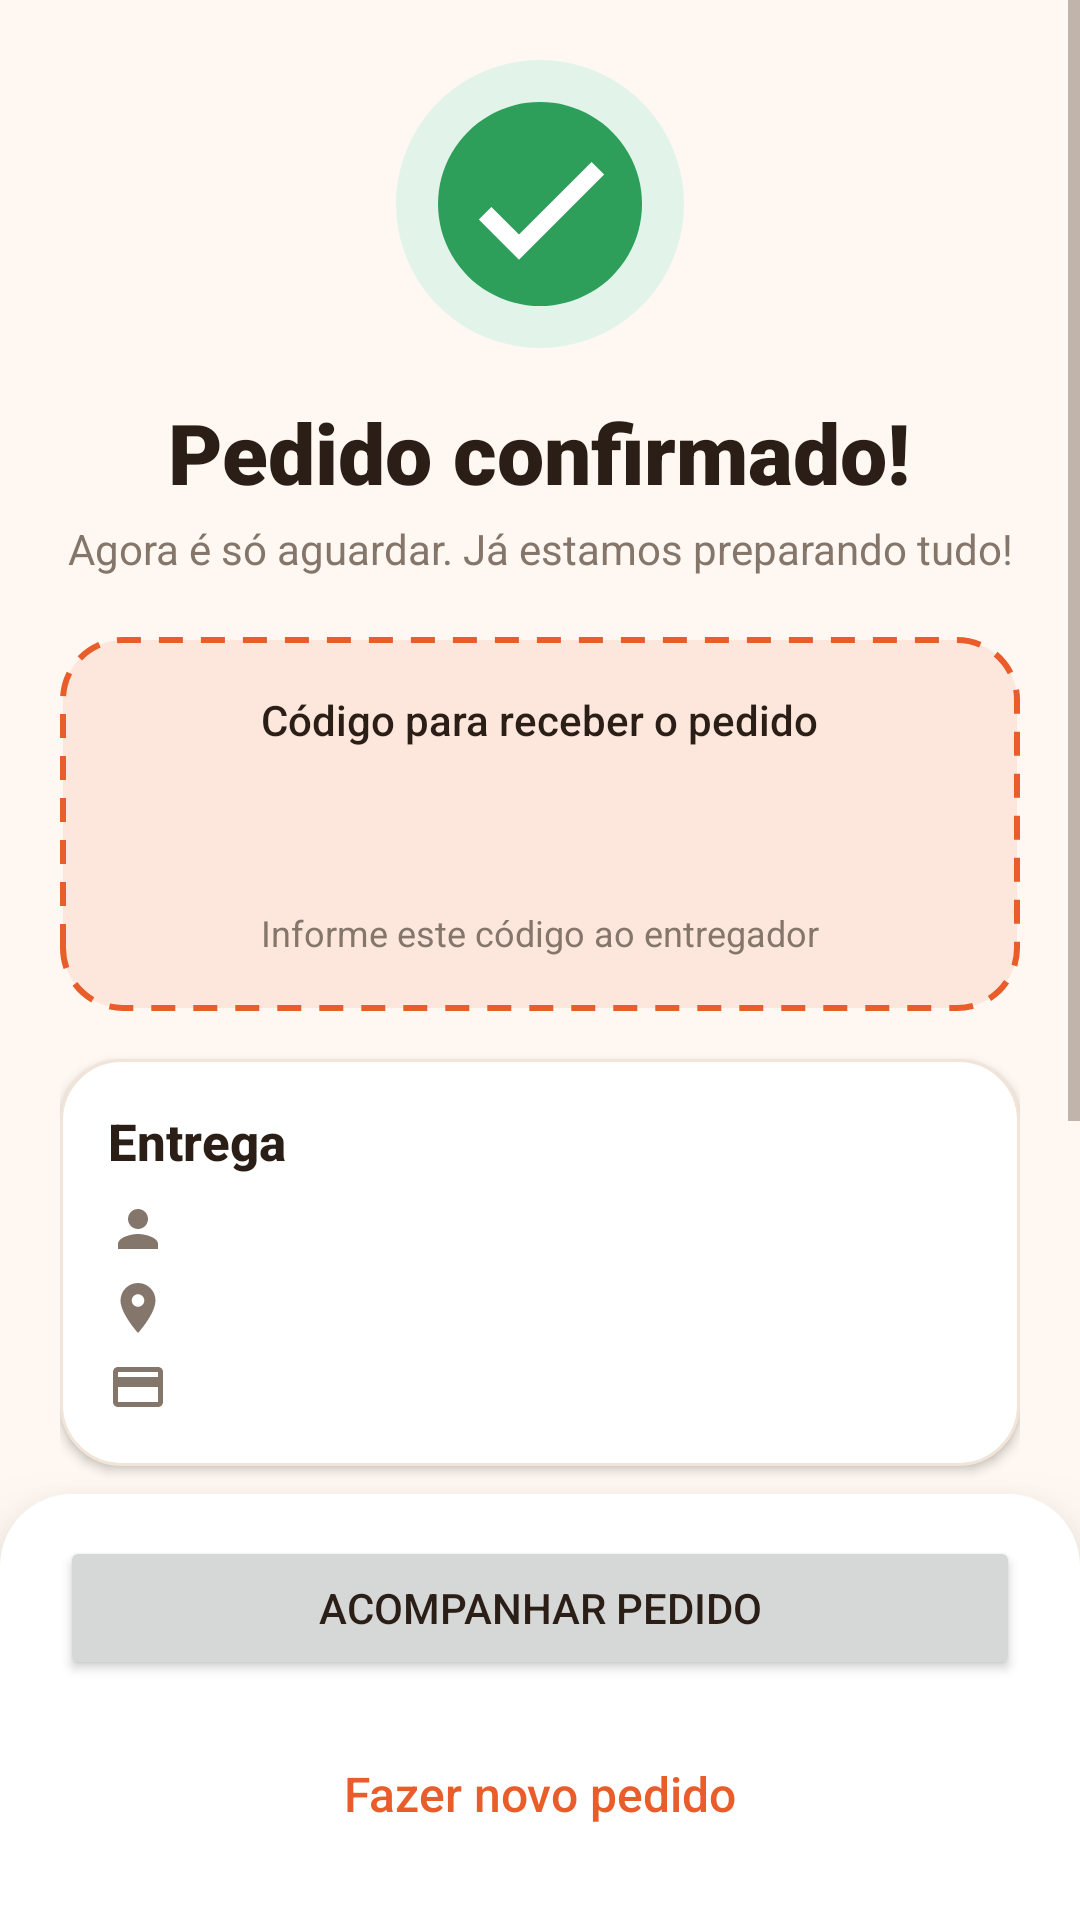

Where to tap for icons on this 1080w x 1920h app screen, as point (x, y):
sucesso: point (540, 204)
